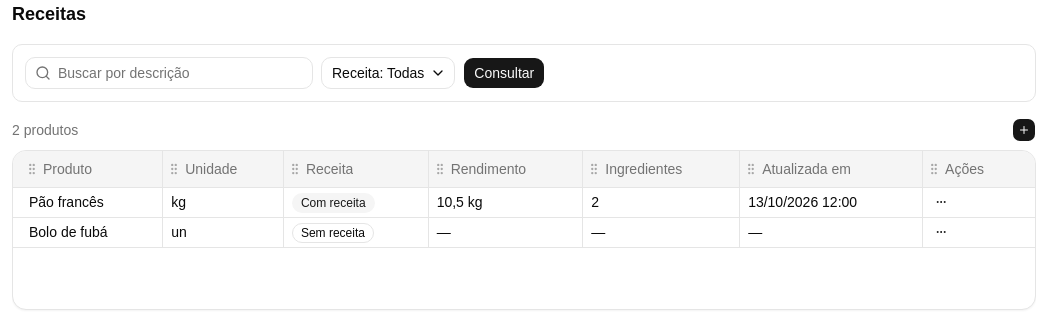
Test: RecipesListPage › searches by description only when Consultar is pressed
The image size is (1048, 327).
Expected: the button "Pão francês" is shown, [29,192,104,212]
Type "bolo" into the search field named "Buscar produtos".
click(169, 73); type("bolo")  # box [25,57,313,89]
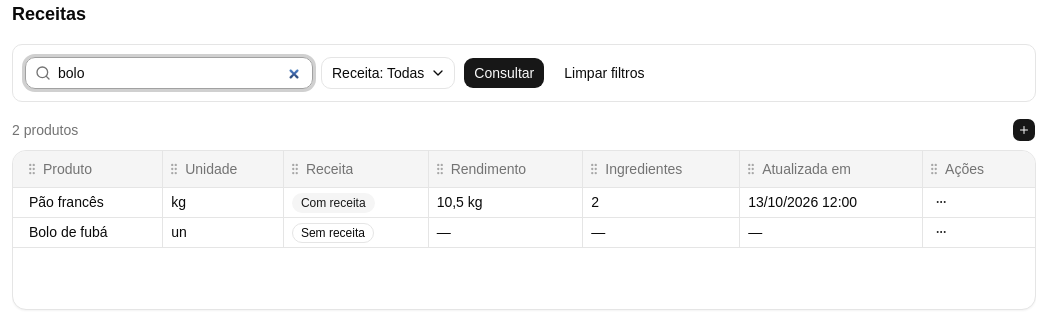
Expected: the button "Pão francês" is shown, [29,192,104,212]
Click the button "Consultar".
click(504, 73)  # box [463,57,545,89]
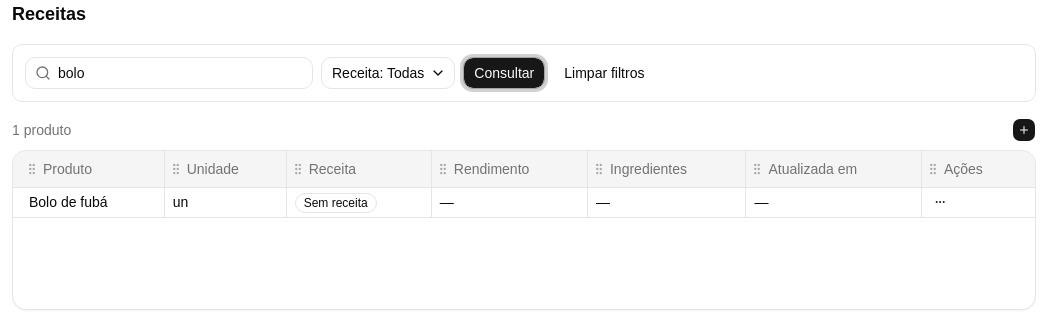
Expected: the button "Bolo de fubá" is shown, [29,192,108,212]
Now the button "Pão francês" is gone
